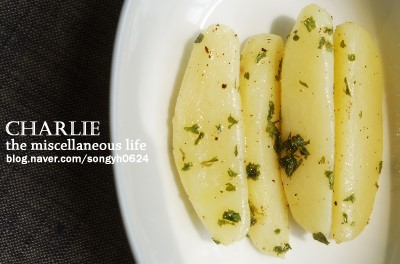boiled potatoes: (189, 9, 367, 237)
